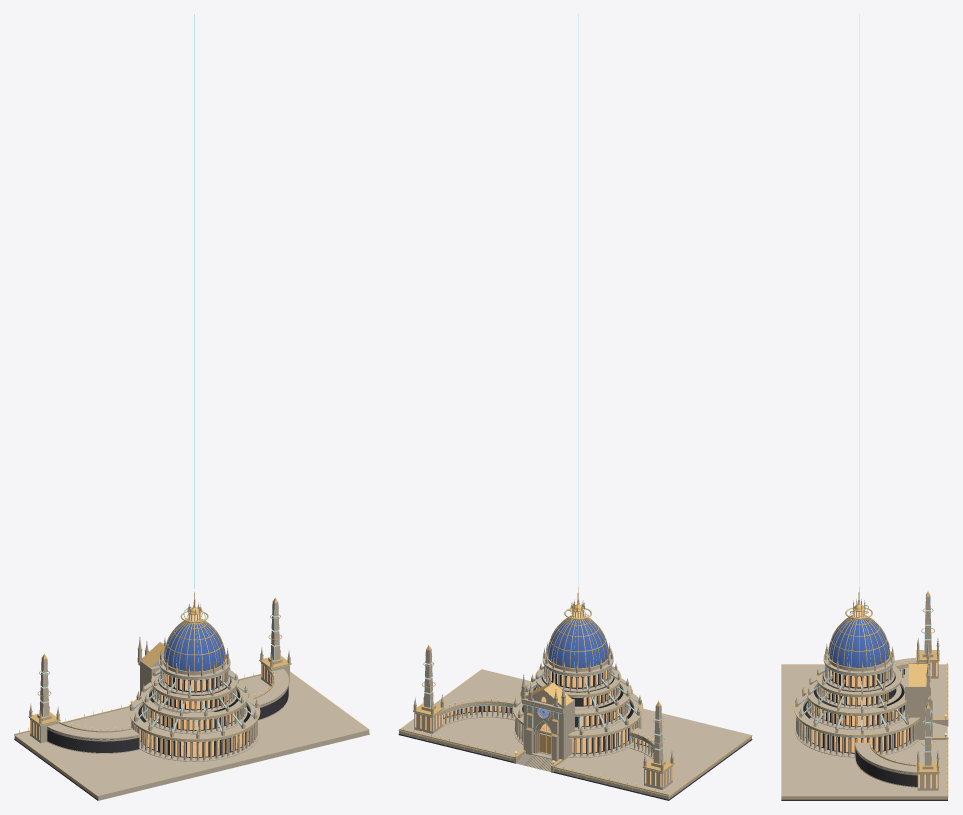
The model's file is imperial_palace.glb.
The picture shows the model from 3 angles, left to right: view 1: azimuth 30°, elevation 25°; view 2: azimuth 150°, elevation 25°; view 3: azimuth 270°, elevation 25°; orthographic projection.
Visible parts, largest first — view 1: Shell, Glow; view 2: Shell, Glow; view 3: Shell, Glow, beam.
Boxes of the visible parts, bbox=[...] form: Shell: bbox=[14, 591, 369, 800]; Glow: bbox=[19, 589, 290, 757]; Shell: bbox=[398, 587, 752, 800]; Glow: bbox=[405, 586, 672, 795]; Shell: bbox=[781, 587, 948, 800]; Glow: bbox=[796, 586, 947, 789]; beam: bbox=[859, 14, 859, 585].
Size of the model in its own units: 354 by 900 by 189.
